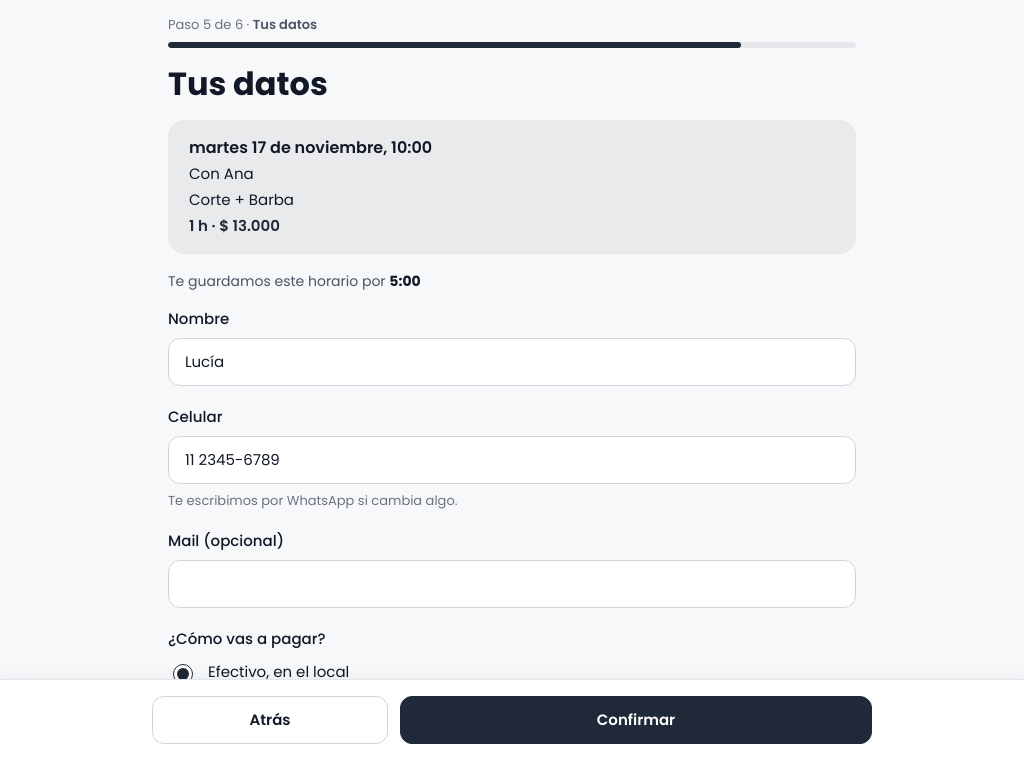
Paso 5: tus datos › HU-14 CA1: con el máximo de turnos muestra el aviso de la API
Click the button "Confirmar" at {"x": 636, "y": 720}, box 400,696 -> 872,744
(page scrolled)
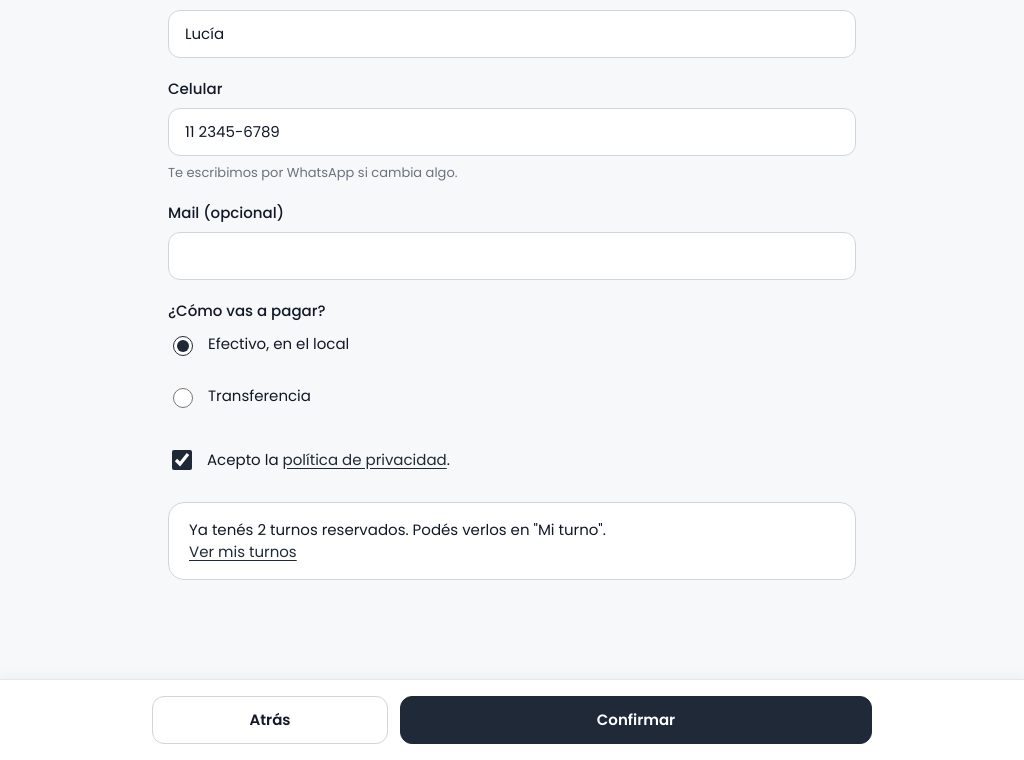
Check: the message shows "Ya tenés 2 turnos reservados.", box 189,519 -> 606,540
